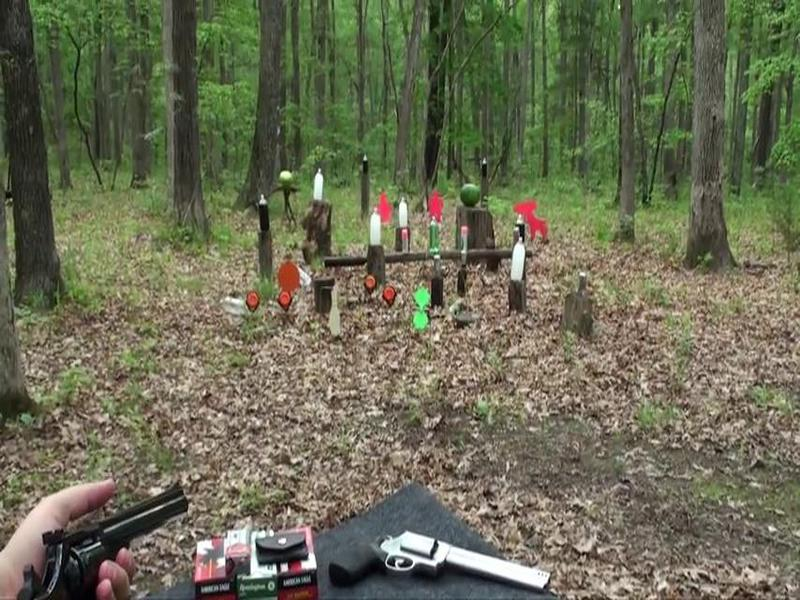Revolver: (15, 472, 207, 600)
